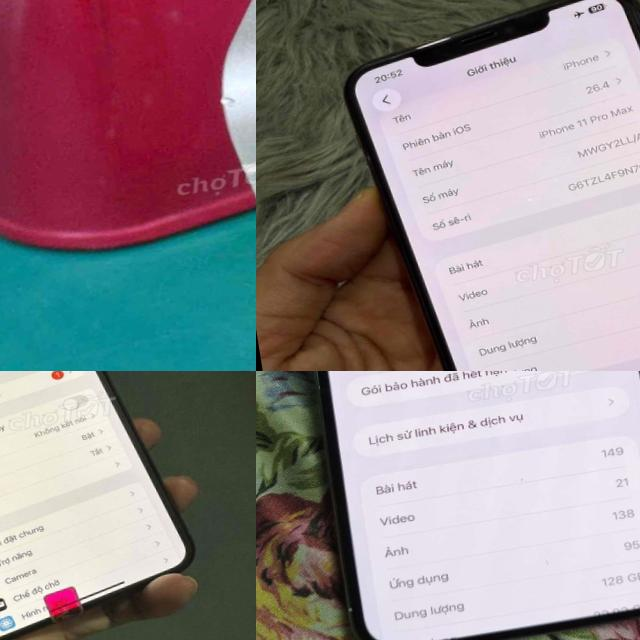gen_11: (336, 0, 640, 371)
gen_12_13: (276, 371, 640, 640), (182, 0, 256, 371)
gen_x_xs: (0, 371, 225, 640)
